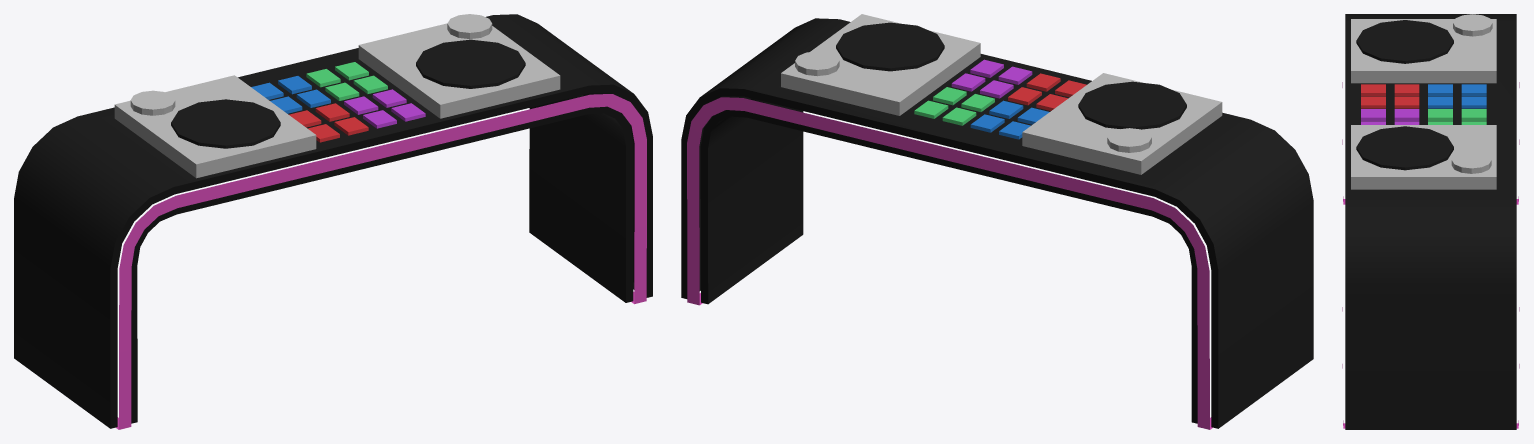
Rendered from Nightclub_DJBooth.fbx.
The picture shows the model from 3 angles, left to right: view 1: azimuth 30°, elevation 25°; view 2: azimuth 150°, elevation 25°; view 3: azimuth 270°, elevation 25°; orthographic projection. The views are drawn at different scales.
Parts seen in each view (by area): view 1: Cube.652, Cube.668; view 2: Cube.652, Cube.668; view 3: Cube.652, Cube.668.
Part boxes in pixels (x1,y1,x2,y2): Cube.652: (14, 14, 652, 428); Cube.668: (116, 62, 646, 429); Cube.652: (681, 14, 1313, 428); Cube.668: (687, 59, 1212, 429); Cube.652: (1345, 14, 1516, 429); Cube.668: (1342, 82, 1519, 428).
Bounding box in the file's own units: 270 × 119 × 85.8.
